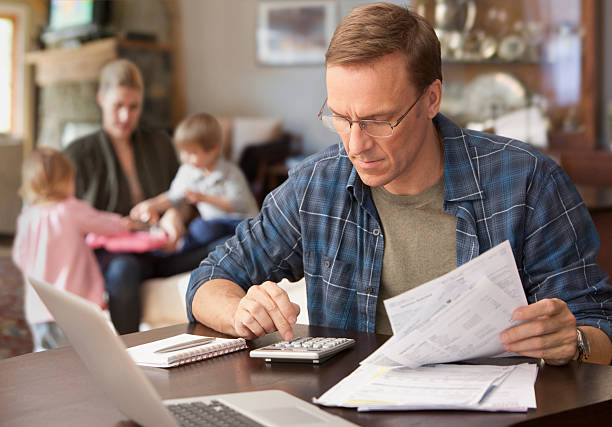without mask: (311, 6, 446, 196), (92, 58, 153, 143), (167, 109, 226, 184), (27, 138, 86, 213)
